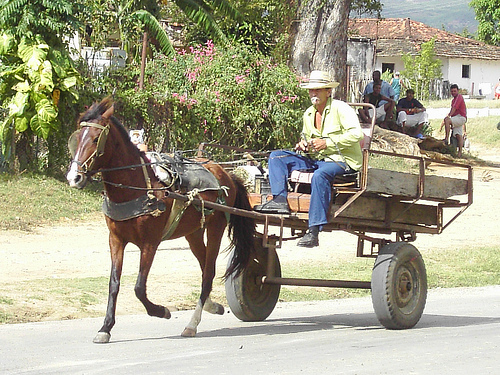horse: (65, 96, 255, 343)
